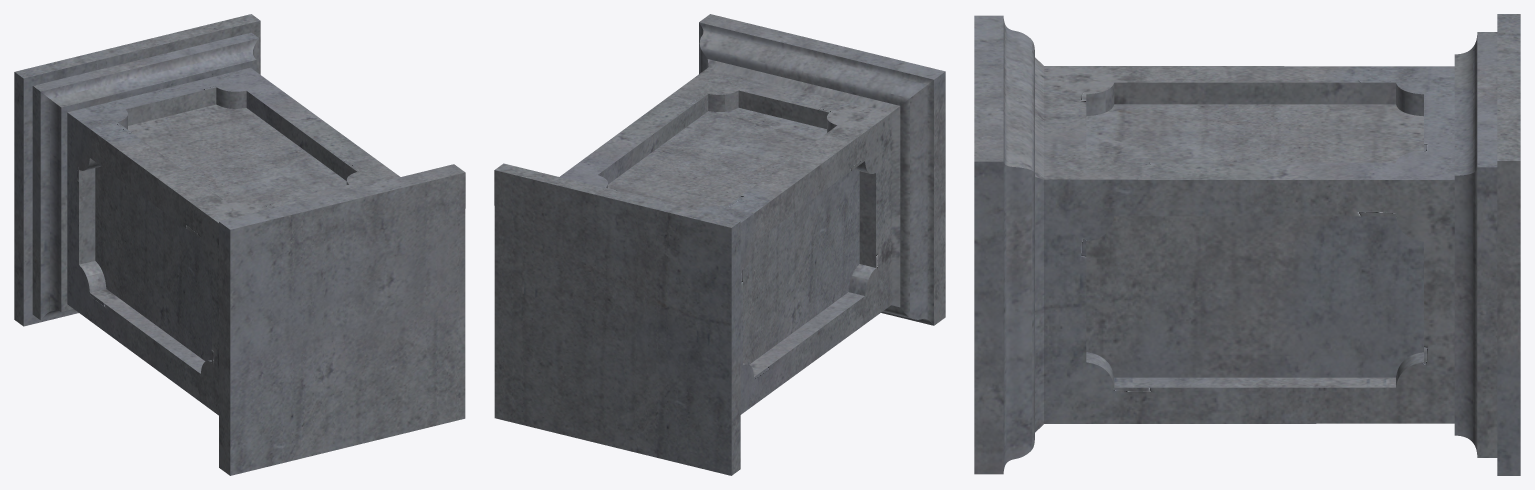
The model's file is 10421_square_pedastal_iterations-2.obj.
3 renders of one model, left to right at view 1: azimuth 30°, elevation 25°; view 2: azimuth 150°, elevation 25°; view 3: azimuth 270°, elevation 25°, orthographic. The views are drawn at different scales.
Visible parts, largest first — view 1: 10421_square_pedastal_v1; view 2: 10421_square_pedastal_v1; view 3: 10421_square_pedastal_v1.
Boxes of the visible parts, x1,y1,x2,y2 form: 10421_square_pedastal_v1: (14,14,465,475); 10421_square_pedastal_v1: (494,14,945,475); 10421_square_pedastal_v1: (974,14,1520,475).
Bounding box in the file's own units: 53.26 × 53.25 × 83.63.
1 material, 1 textured.
